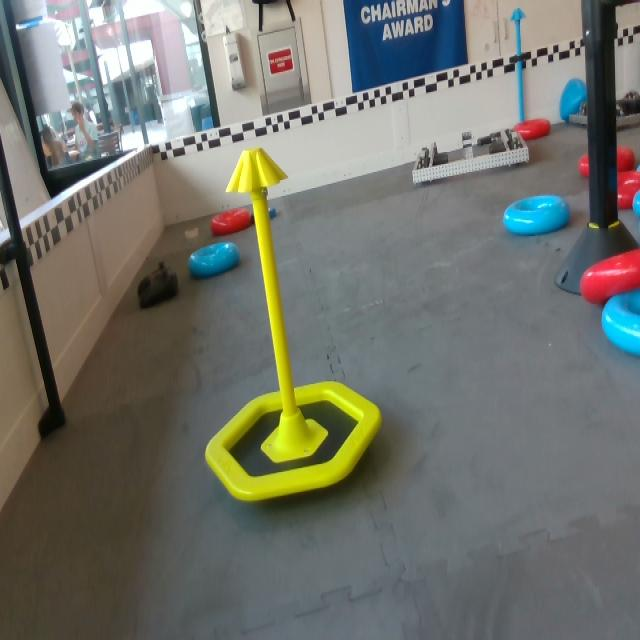Blue-Ring: (600, 285, 639, 360), (502, 196, 570, 236), (189, 241, 244, 280)
Mobile-Goal: (205, 148, 382, 504)
Red-Ring: (580, 248, 639, 307), (579, 149, 638, 176), (210, 208, 254, 241), (512, 117, 554, 144), (618, 179, 639, 212)
Yellow-Stake-Head: (225, 146, 288, 192)
zblue-Stake-Head: (510, 8, 526, 22)
